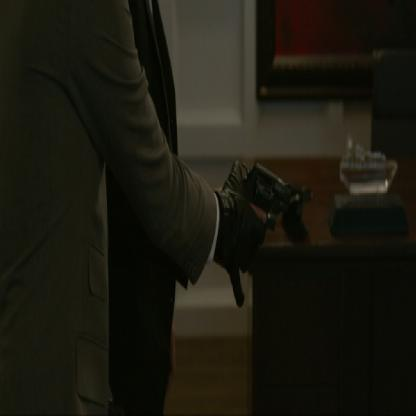Gun: (232, 153, 308, 236)
